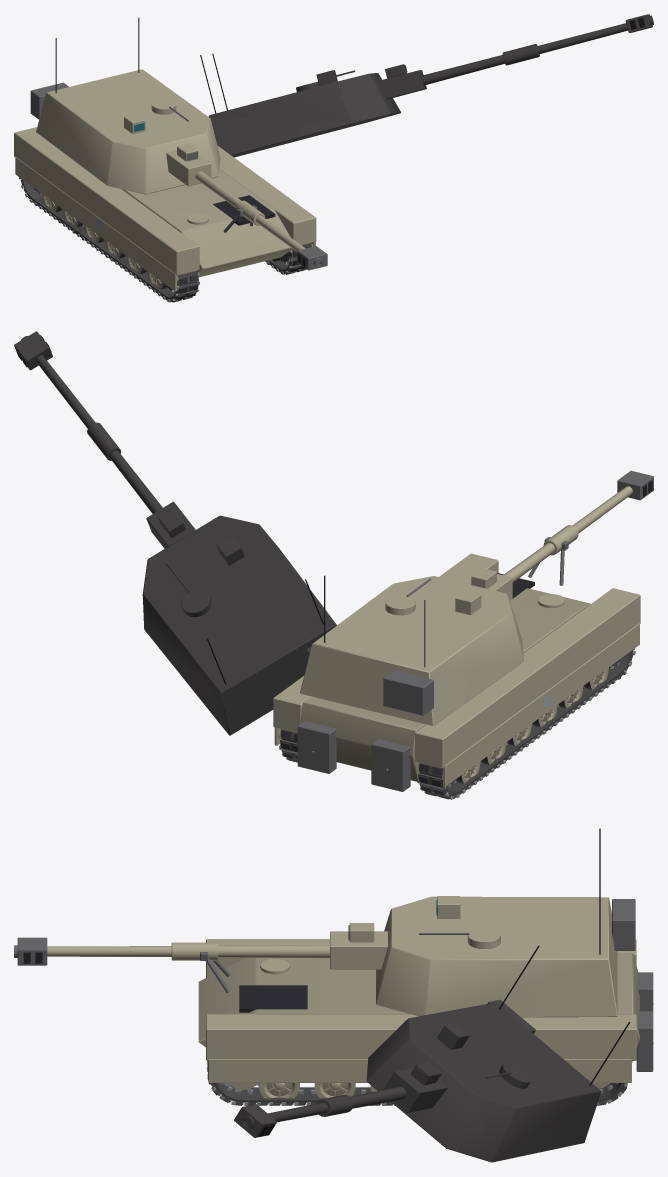
Rendered from artillery__k9a1_thunder.glb.
3 renders of one model, top to bottom at view 1: azimuth 30°, elevation 25°; view 2: azimuth 150°, elevation 25°; view 3: azimuth 270°, elevation 25°, orthographic. The views are drawn at different scales.
Visible parts, largest first — view 1: Hull_Mesh, Turret_Mesh, Wreck, Gun_Mesh, Track_L_Mesh, Track_R_Mesh; view 2: Wreck, Hull_Mesh, Turret_Mesh, Gun_Mesh, Track_L_Mesh; view 3: Hull_Mesh, Wreck, Turret_Mesh, Gun_Mesh, Track_R_Mesh, Wheel_R5_Mesh, Wheel_R4_Mesh.
Part boxes in pixels (x1,y1,x2,y2): Hull_Mesh: (14,127,316,291); Turret_Mesh: (30,17,220,194); Wreck: (19,14,653,301); Gun_Mesh: (166,143,327,270); Track_L_Mesh: (19,177,199,302); Track_R_Mesh: (265,243,313,274); Wreck: (14,331,635,798); Hull_Mesh: (273,537,640,791); Turret_Mesh: (300,575,523,725); Gun_Mesh: (467,470,653,600); Track_L_Mesh: (417,648,635,799); Hull_Mesh: (198,939,653,1082); Wreck: (207,945,629,1162); Turret_Mesh: (376,828,635,1017); Gun_Mesh: (14,923,387,969); Track_R_Mesh: (207,1061,627,1105); Wheel_R5_Mesh: (259,1083,299,1104); Wheel_R4_Mesh: (314,1083,355,1098).
Size of what is drawn, in the model's own units: 12.72 by 4.15 by 10.78.
